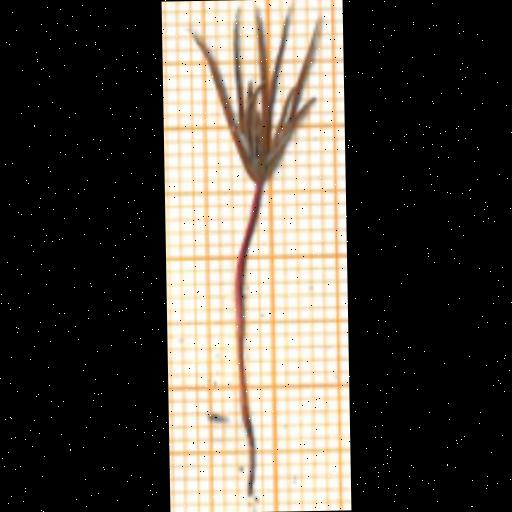flowerPinus: (191, 13, 322, 183)
rootPinus: (243, 417, 256, 497)
stemPinus: (233, 183, 263, 417)
